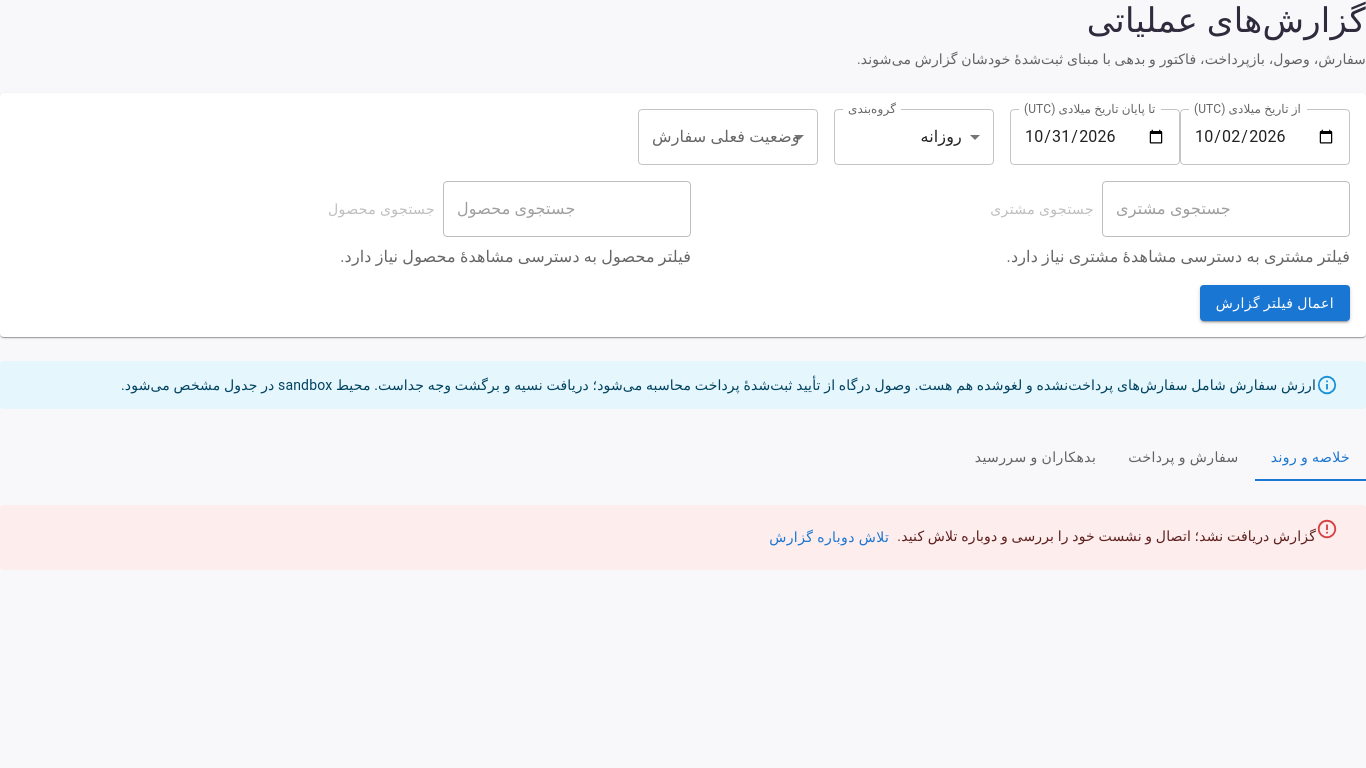
Test: Operational Admin reports contract and states › shows safe network failure and retries a read with original filters
Step 1. Click the button "تلاش دوباره گزارش" → (829, 538), box [761,519,897,556]
(page scrolled)
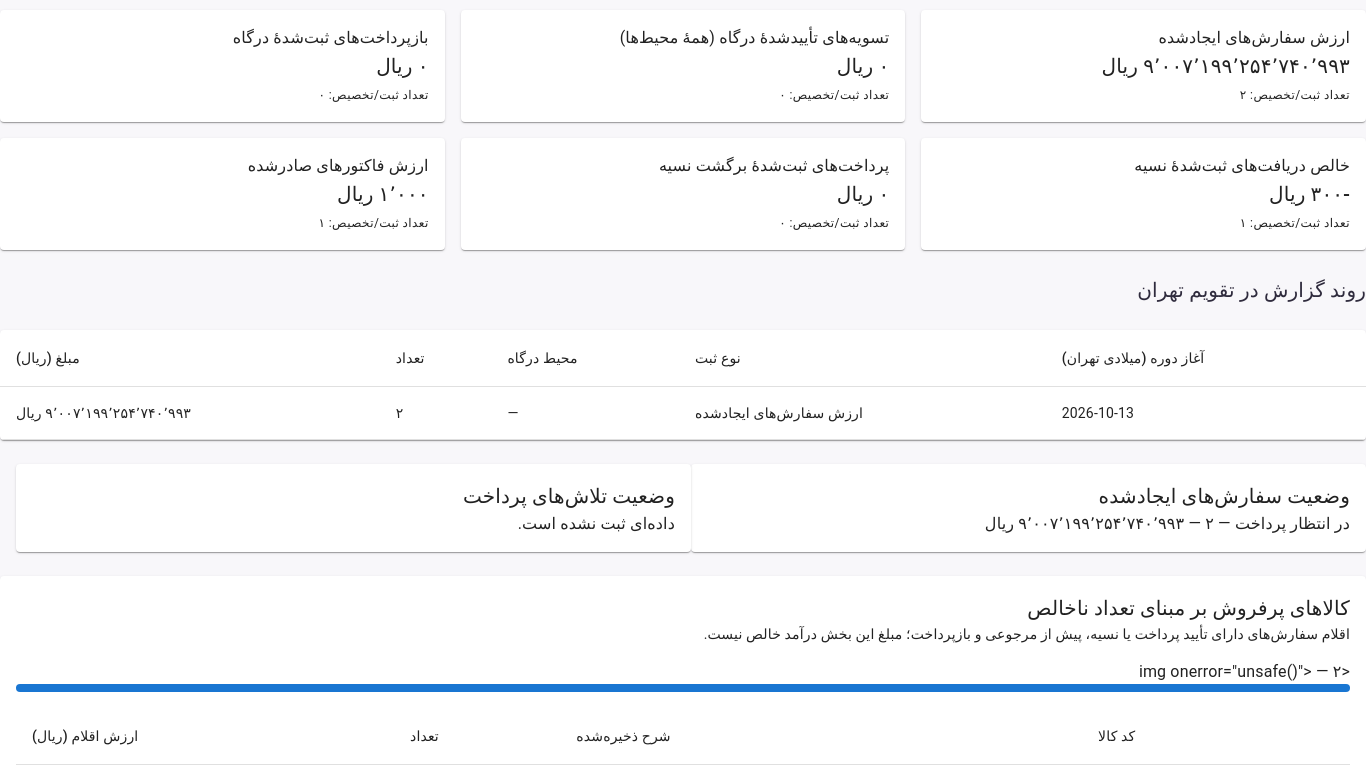
Result: the table named "روند زمانی گزارش" is shown at [0,330,1365,440]
